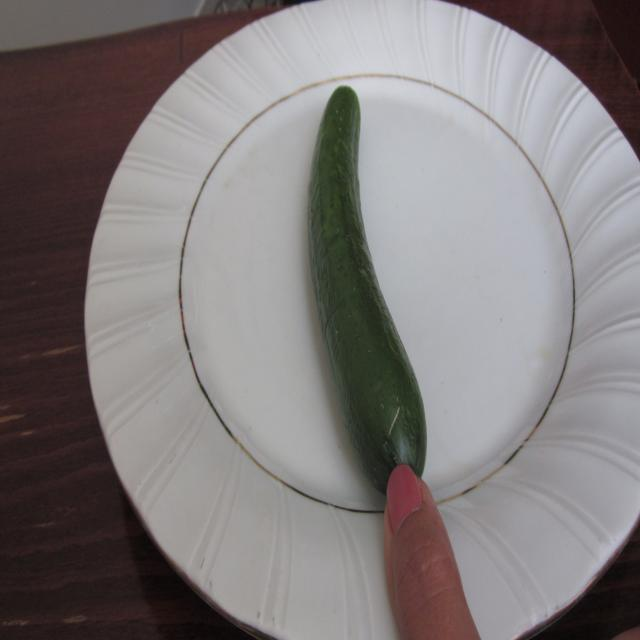cucumber: (301, 84, 432, 499)
